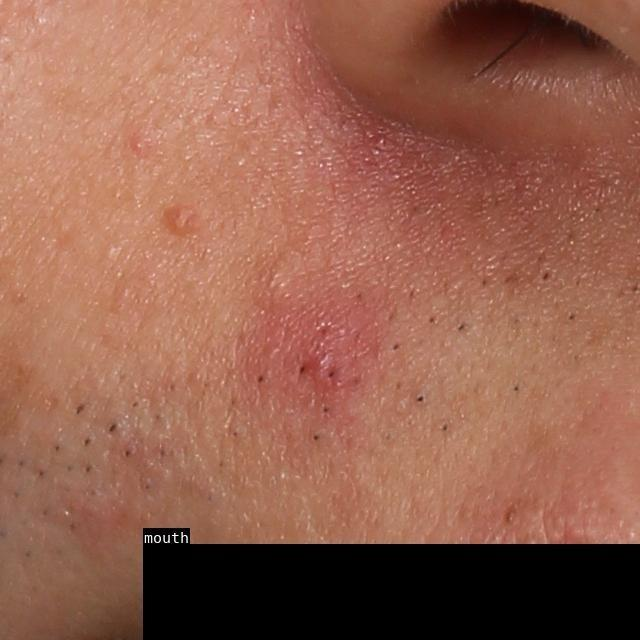papule: (297, 341, 347, 385), (161, 202, 198, 237), (128, 130, 152, 155)
